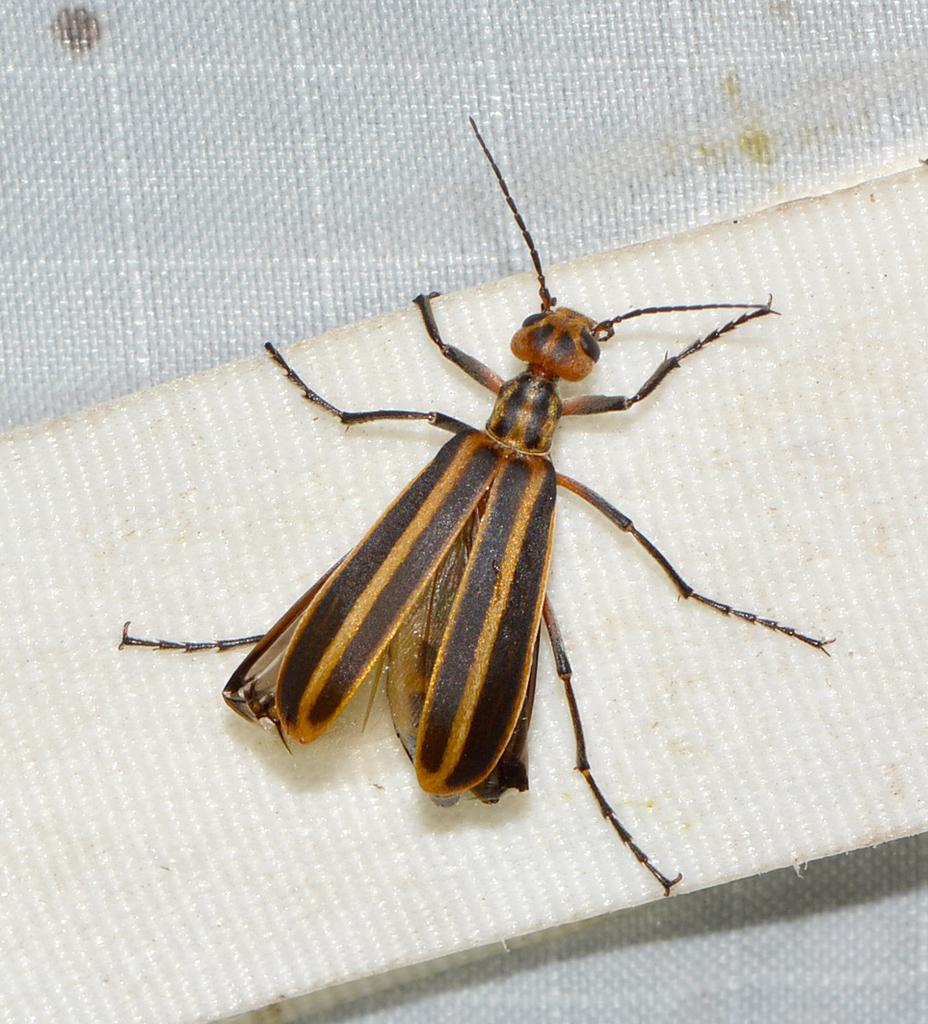blister_beetle: (60, 67, 915, 977)
